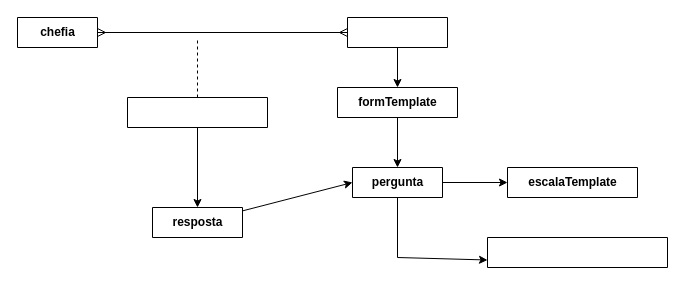
Some shapes in this 685 by 286 pixel diagram are drawn without their labels. Here are the shapes that lost their labels. From the top down, the centre of each, then its label:
pixel 397 32: avaliacao
pixel 197 112: Chefia_Avaliacao
pixel 577 252: respostaUnicaTemplate
